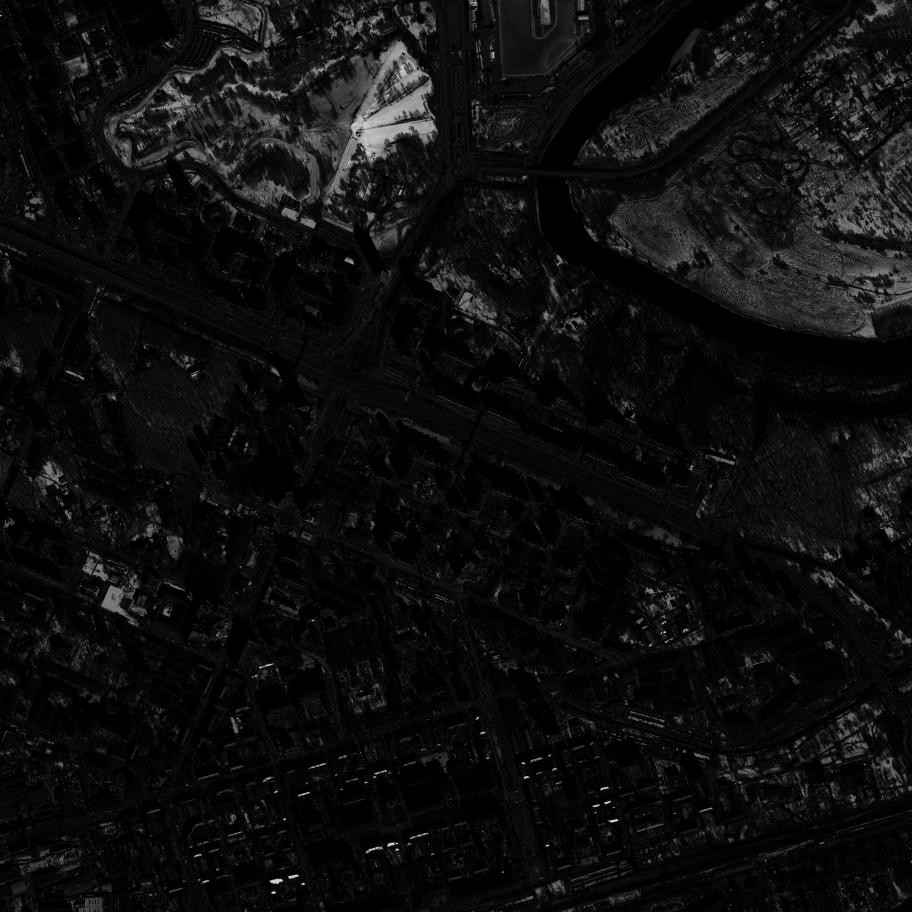storage-tank: (887, 548, 898, 558), (848, 561, 858, 570), (864, 551, 872, 561), (418, 16, 424, 22)
